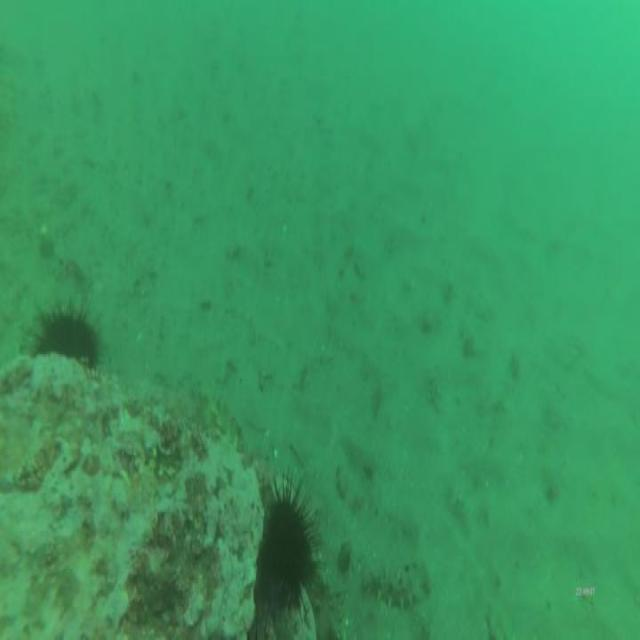echinus: (259, 472, 319, 626), (22, 294, 106, 371)
holothurian: (175, 384, 247, 458), (361, 552, 435, 616)
